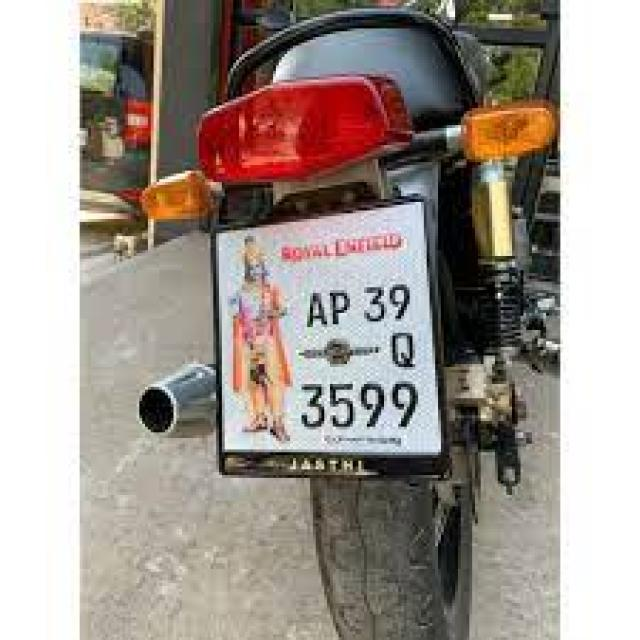license_plate: (208, 193, 447, 472)
